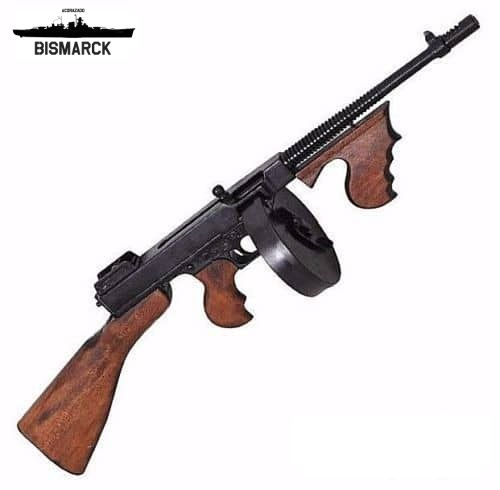Arma Real: (10, 9, 482, 474)
